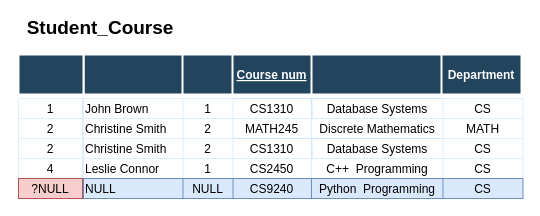
Some shapes in this 540 by 216 pixel diagram are drawn without their labels. The shapes that lost their labels are listed below. From the top down, each one's centre as x and y in pixels, then its label:
(50,74): Student_id
(133,74): Student_name
(207,74): Class
(377,74): Course_name
